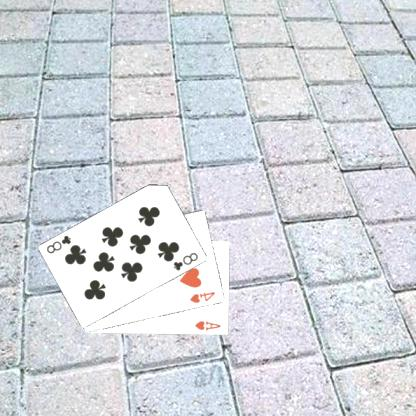4H: (189, 288, 218, 304)
8C: (46, 232, 75, 255), (172, 250, 202, 272)
AH: (194, 318, 224, 332)
